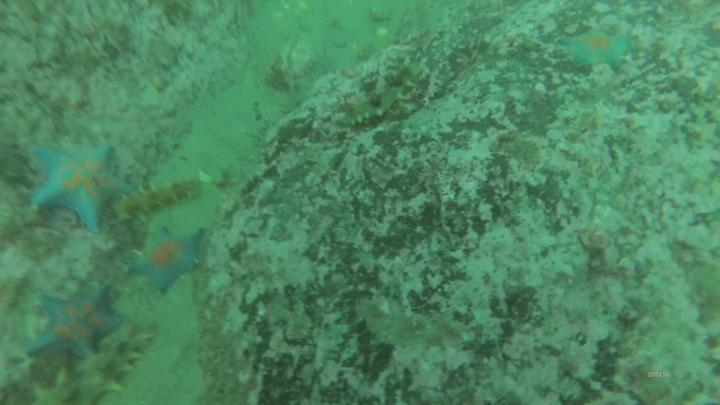holothurian: (31, 327, 148, 403), (338, 66, 424, 129), (117, 182, 203, 220)
starfish: (33, 146, 129, 232), (28, 289, 120, 353), (134, 229, 205, 294), (562, 28, 630, 65)
